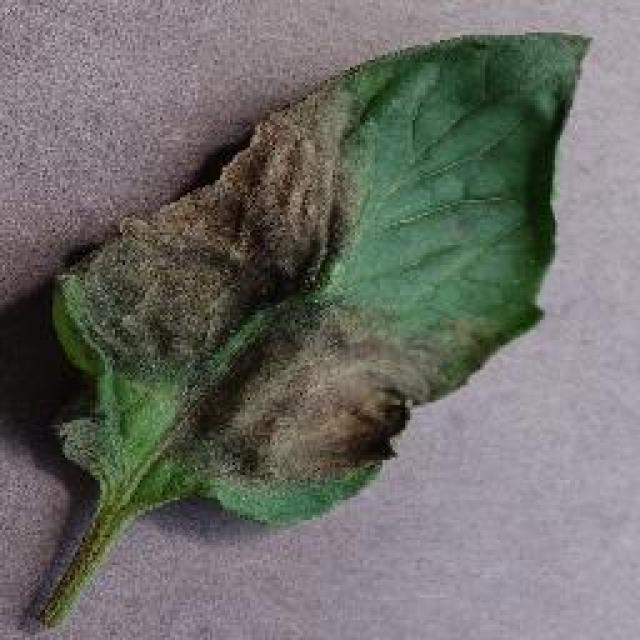Tomato Late Blight: (45, 55, 415, 460)
